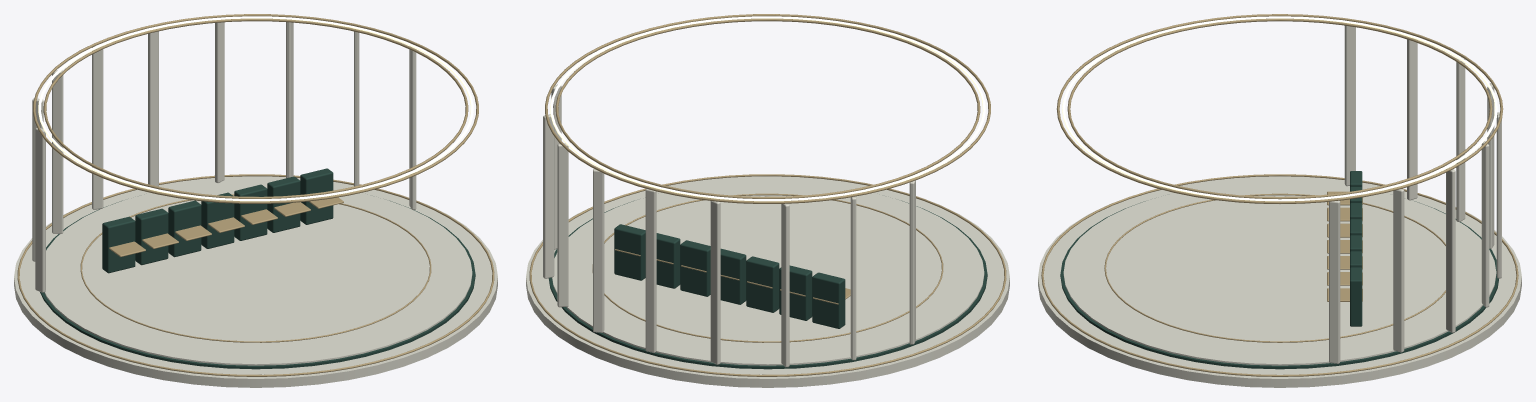
The model's file is papers.glb.
The picture shows the model from 3 angles, left to right: view 1: azimuth 30°, elevation 25°; view 2: azimuth 150°, elevation 25°; view 3: azimuth 270°, elevation 25°; orthographic projection.
Visible parts, largest first — view 1: papers; view 2: papers; view 3: papers.
Part boxes in pixels (x1,y1,x2,y2): papers: (14,14,497,387); papers: (526,14,1009,387); papers: (1038,14,1521,387).
Size of the model in its own units: 10.8 by 4.38 by 10.8.
